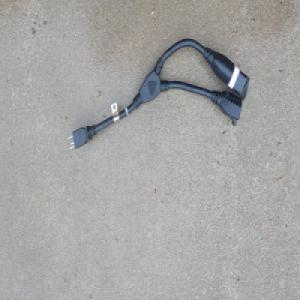Wire: (66, 36, 250, 152)
